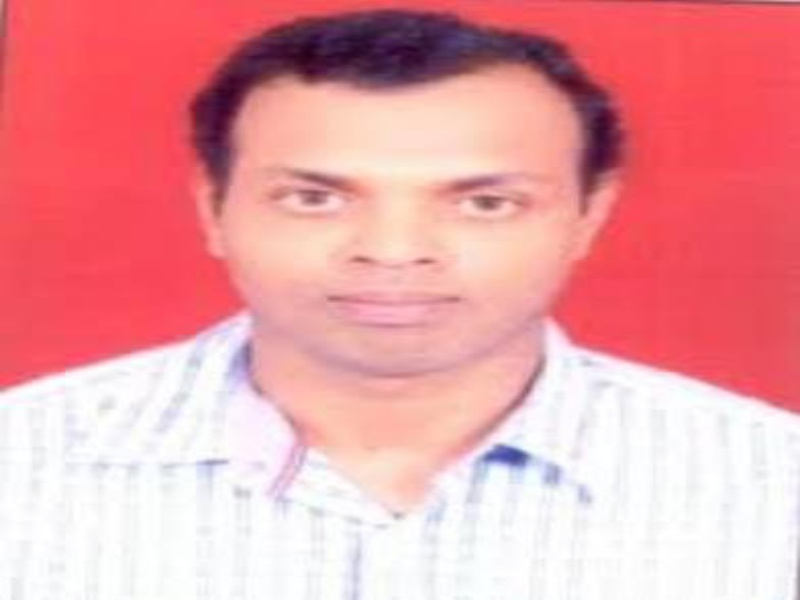TsisyArotava: (181, 19, 632, 397)
